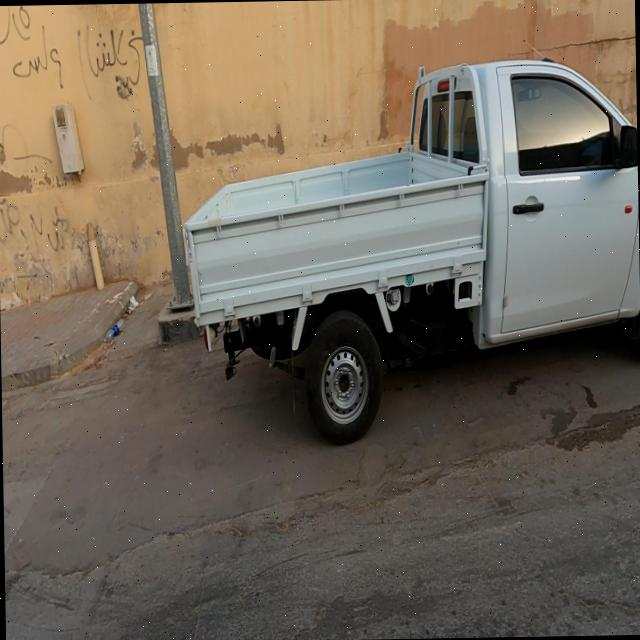Graffiti: (1, 4, 143, 104), (1, 195, 69, 257)
